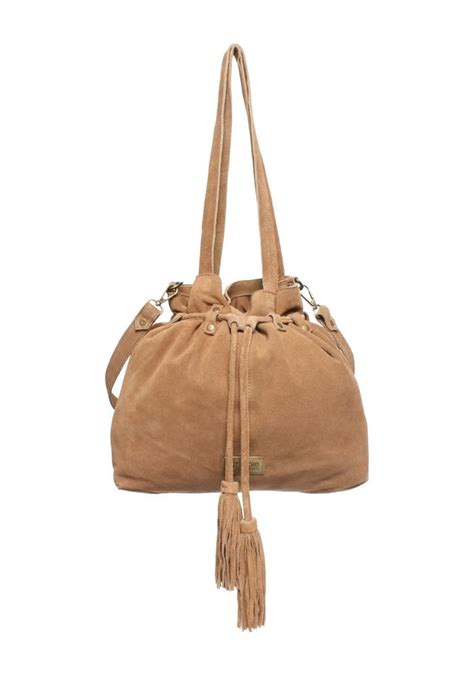gamuza: (104, 292, 370, 496)
